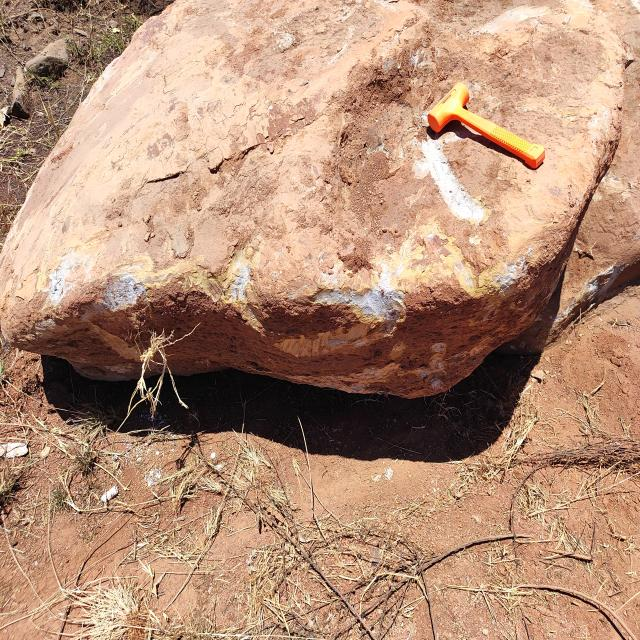Orange_hammer: (426, 81, 546, 170)
